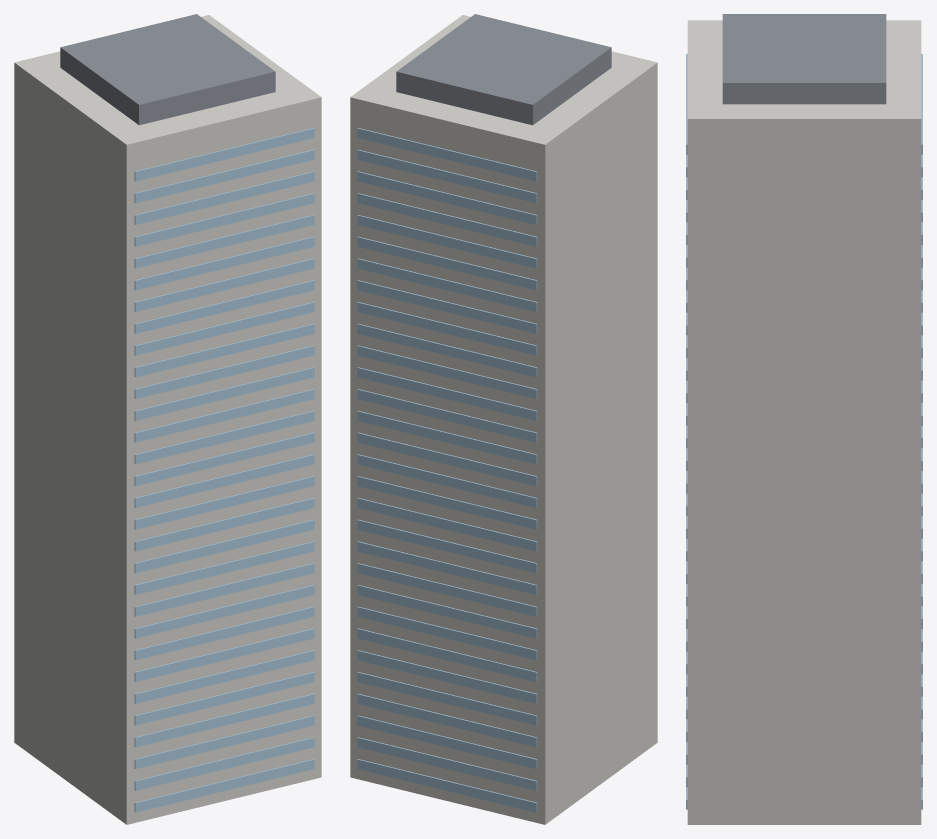
Rendered from tower.glb.
The picture shows the model from 3 angles, left to right: view 1: azimuth 30°, elevation 25°; view 2: azimuth 150°, elevation 25°; view 3: azimuth 270°, elevation 25°; orthographic projection. The views are drawn at different scales.
Visible parts, largest first — view 1: Cube, Cube.061, Cube.003, Cube.045, Cube.009, Cube.011, Cube.029, Cube.033, Cube.037, Cube.039, Cube.041, Cube.047 (+20 smaller); view 2: Cube, Cube.061, Cube.004, Cube.046, Cube.010, Cube.012, Cube.030, Cube.034, Cube.038, Cube.040, Cube.042, Cube.048 (+20 smaller); view 3: Cube, Cube.061.
Part boxes in pixels (<box>): Cube: <box>14,15,321,824</box>; Cube.061: <box>60,14,275,125</box>; Cube.003: <box>134,737,314,790</box>; Cube.045: <box>134,280,314,333</box>; Cube.009: <box>134,672,314,725</box>; Cube.011: <box>134,650,314,703</box>; Cube.029: <box>134,454,314,507</box>; Cube.033: <box>134,410,314,464</box>; Cube.037: <box>134,367,314,420</box>; Cube.039: <box>134,345,314,398</box>; Cube.041: <box>134,323,314,377</box>; Cube.047: <box>134,258,314,311</box>; Cube: <box>350,15,657,824</box>; Cube.061: <box>396,14,611,125</box>; Cube.004: <box>357,737,537,790</box>; Cube.046: <box>357,280,537,333</box>; Cube.010: <box>357,672,537,725</box>; Cube.012: <box>357,650,537,703</box>; Cube.030: <box>357,454,537,507</box>; Cube.034: <box>357,410,537,464</box>; Cube.038: <box>357,367,537,420</box>; Cube.040: <box>357,345,537,398</box>; Cube.042: <box>357,323,537,377</box>; Cube.048: <box>357,258,537,311</box>; Cube: <box>687,20,921,824</box>; Cube.061: <box>722,14,886,104</box>.
Bounding box in the file's own units: 30 × 103 × 30.4.
